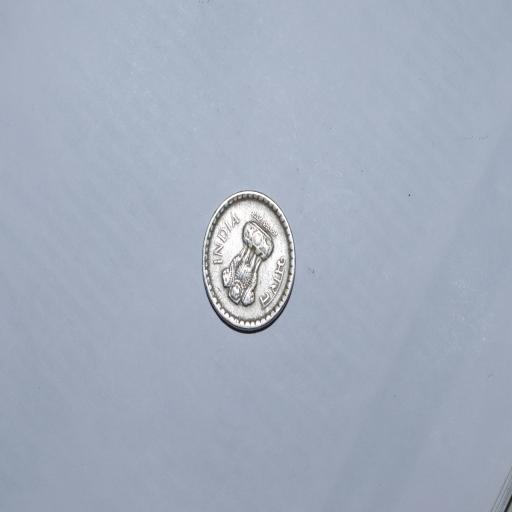rupee5: (199, 188, 300, 334)
